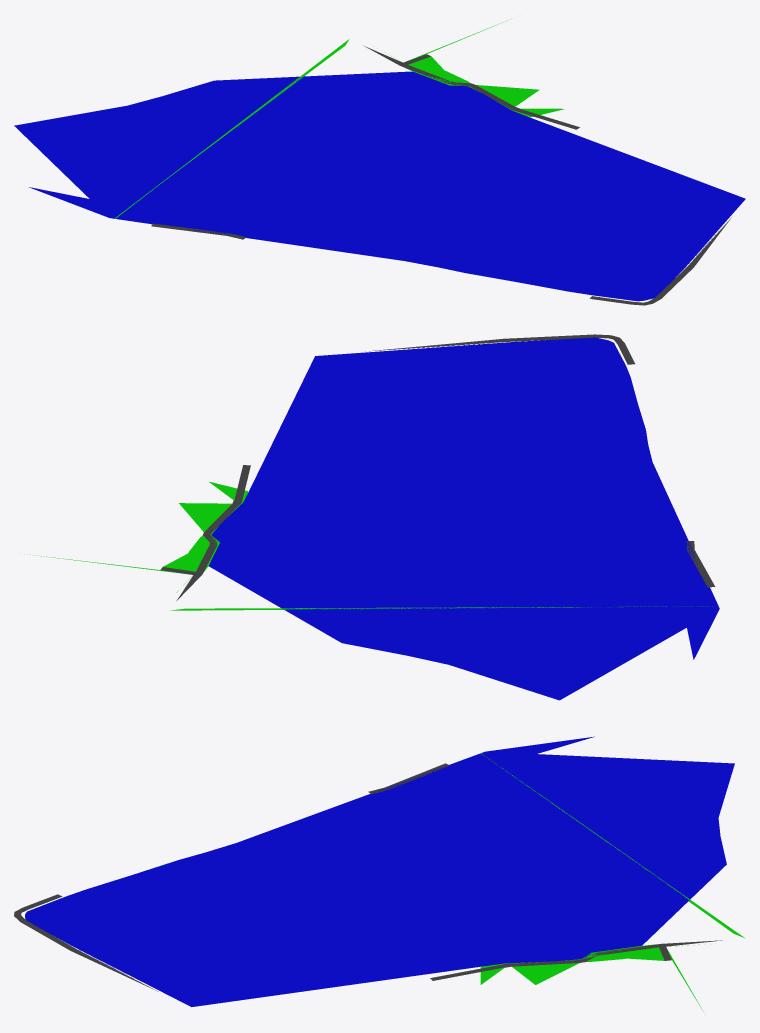
The picture shows the model from 3 angles, top to bottom: view 1: azimuth 30°, elevation 25°; view 2: azimuth 150°, elevation 25°; view 3: azimuth 270°, elevation 25°; orthographic projection. The views are drawn at different scales.
Size of the model in its own units: 374 by 0 by 399.
